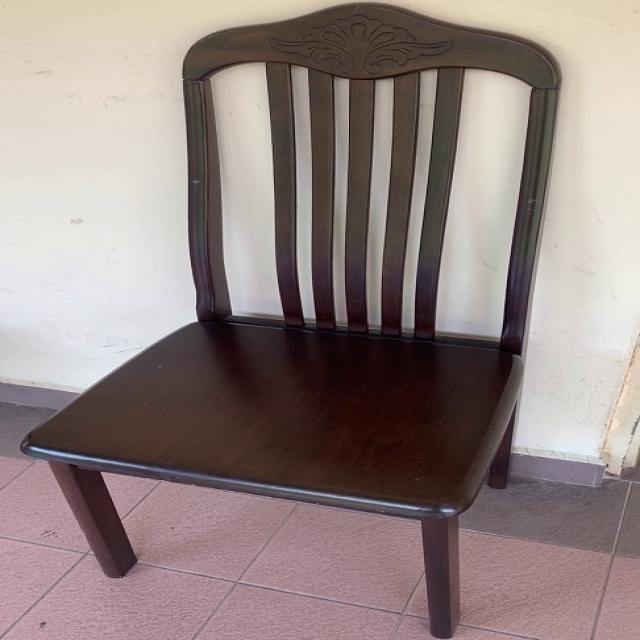chair: (13, 3, 561, 640)
